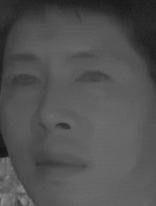eye: (74, 67, 114, 91), (6, 70, 41, 92)
mouth: (31, 145, 90, 180)
